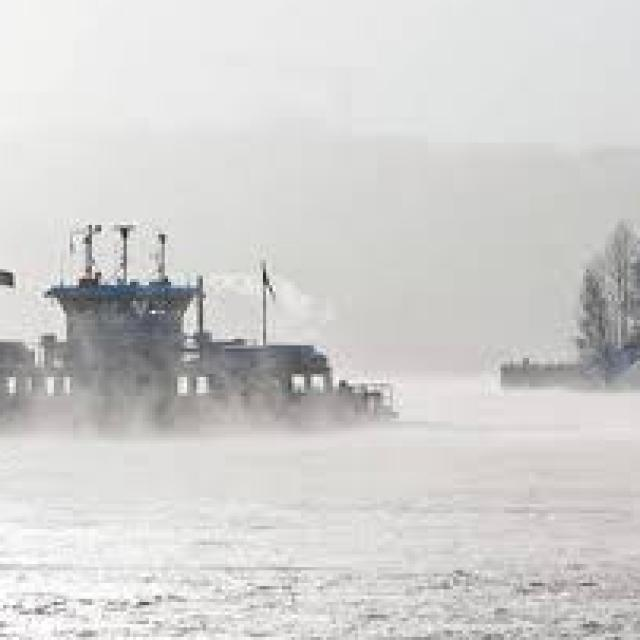fishing boat: (0, 228, 406, 444)
